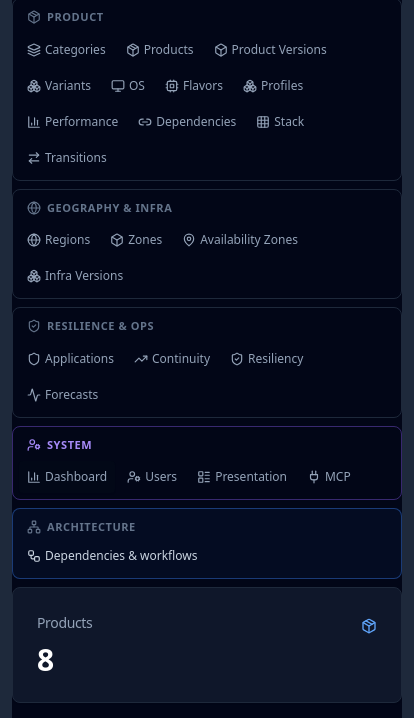
Test: Admin Dashboard Refactor — Frontend › OS Tab › lists OS families with version counts
Click the button "Product": (75, 16) [19, 5, 395, 30]
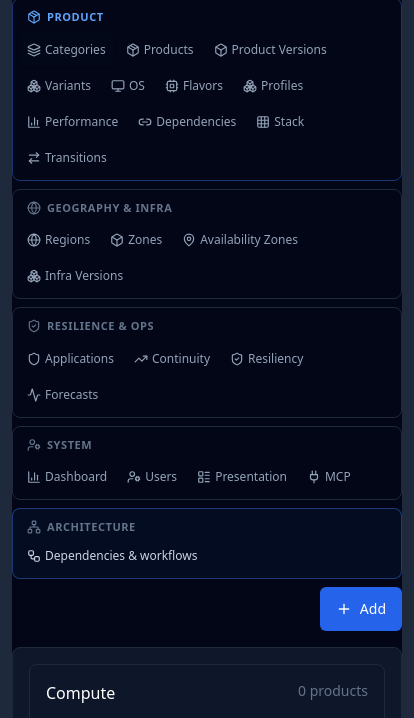
Click the button "OS": (128, 86) [103, 70, 153, 102]
(page scrolled)
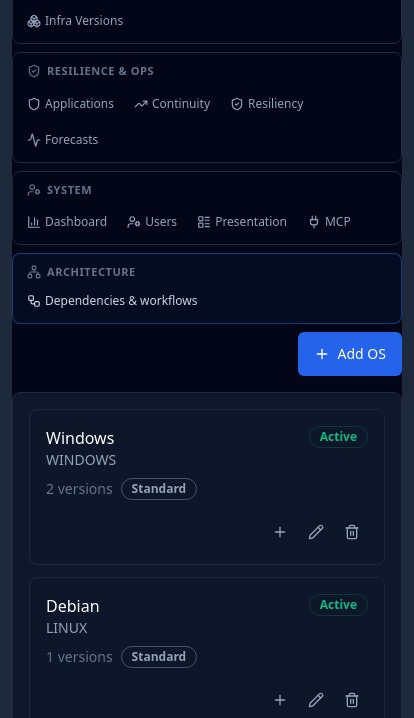
Now the text "Windows" is shown, box [46, 426, 116, 450]
Now the text "Debian" is shown, box [46, 594, 100, 618]
